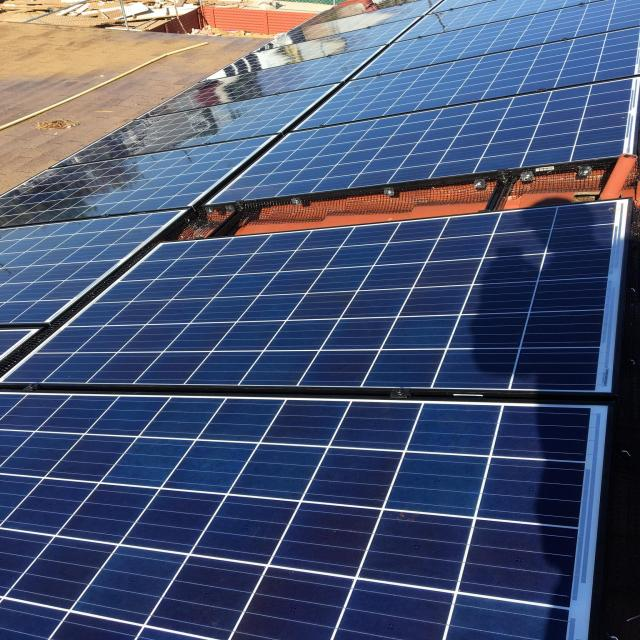clean-solar-panel: (0, 0, 638, 640)
